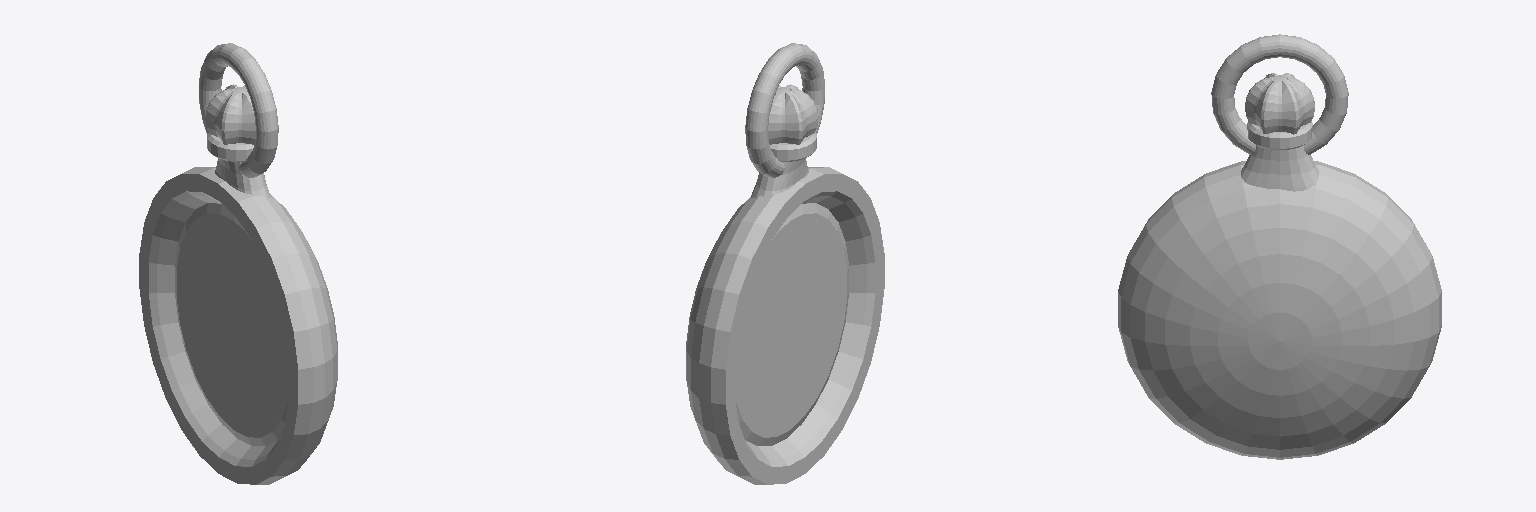
File: tiempo_low.obj
The picture shows the model from 3 angles: view 1: azimuth 30°, elevation 25°; view 2: azimuth 150°, elevation 25°; view 3: azimuth 270°, elevation 25°; orthographic projection.
Visible parts, largest first — view 1: pSphere1, pTorus1, textureEditorIsolateSelectSet pSphere2, textureEditorIsolateSelectSet pCylinder1, pCylinder2; view 2: pSphere1, pTorus1, textureEditorIsolateSelectSet pSphere2, textureEditorIsolateSelectSet pCylinder1, pCylinder2; view 3: pSphere1, pTorus1, textureEditorIsolateSelectSet pSphere2, textureEditorIsolateSelectSet pCylinder1, pCylinder2.
Boxes of the visible parts, box(x1,y1,x2,y2) form: pSphere1: box(139, 167, 337, 484); pTorus1: box(199, 43, 278, 177); textureEditorIsolateSelectSet pSphere2: box(205, 84, 255, 144); textureEditorIsolateSelectSet pCylinder1: box(215, 158, 270, 196); pCylinder2: box(207, 133, 253, 161); pSphere1: box(686, 167, 884, 484); pTorus1: box(745, 43, 824, 177); textureEditorIsolateSelectSet pSphere2: box(768, 84, 818, 144); textureEditorIsolateSelectSet pCylinder1: box(751, 158, 808, 197); pCylinder2: box(770, 133, 816, 161); pSphere1: box(1118, 161, 1441, 459); pTorus1: box(1211, 34, 1348, 154); textureEditorIsolateSelectSet pSphere2: box(1245, 73, 1314, 134); textureEditorIsolateSelectSet pCylinder1: box(1241, 145, 1318, 191); pCylinder2: box(1247, 121, 1312, 149).
Size of the model in its own units: 3.86 by 17.47 by 12.1.